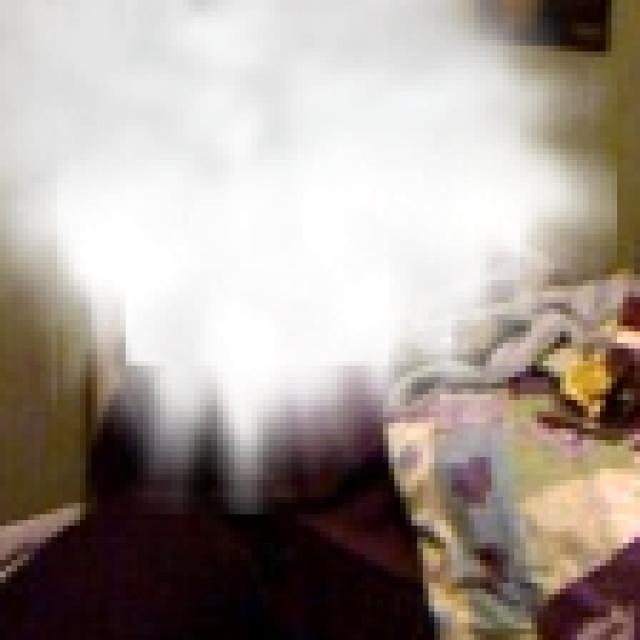smoke: (0, 0, 617, 514)
